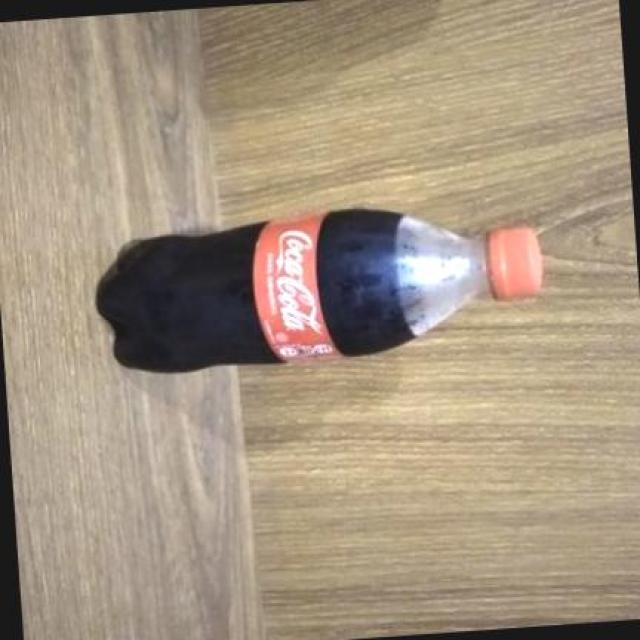high: (98, 209, 542, 372)
